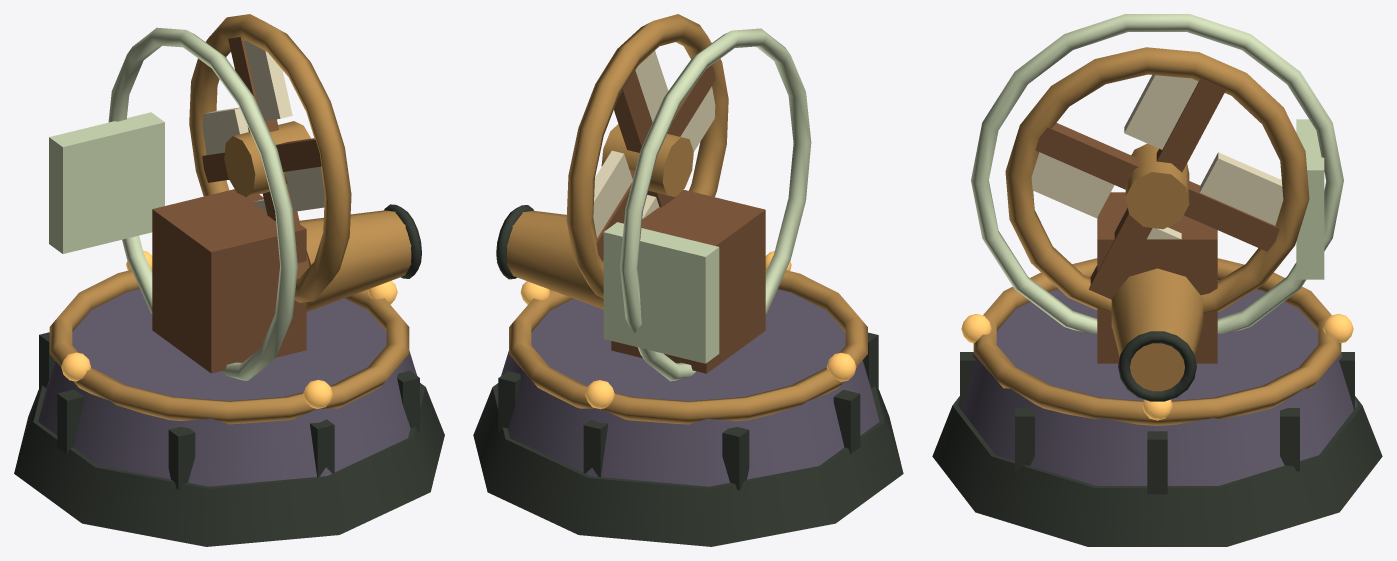
Rendered from tower_wind_windSwitch_ultimate.glb.
The picture shows the model from 3 angles, left to right: view 1: azimuth 30°, elevation 25°; view 2: azimuth 150°, elevation 25°; view 3: azimuth 270°, elevation 25°; orthographic projection. The views are drawn at different scales.
Visible parts, largest first — view 1: stone_1, foot_0, mill_15, deflector_28, guide_ring_16, rim_2, redirect_29, air_nozzle_26, hub_17, sail_21, sail_19, sail_23 (+12 smaller); view 2: stone_1, foot_0, redirect_29, deflector_28, guide_ring_16, rim_2, mill_15, air_nozzle_26, hub_17, sail_19, spar_20, mortar_8 (+11 smaller); view 3: stone_1, foot_0, guide_ring_16, redirect_29, rim_2, air_nozzle_26, mill_15, hub_17, sail_19, deflector_28, spar_22, sail_21 (+12 smaller).
Boxes of the visible parts, bbox=[...] form: stone_1: bbox=[38, 289, 420, 486]; foot_0: bbox=[14, 383, 444, 546]; mill_15: bbox=[152, 189, 306, 373]; deflector_28: bbox=[49, 112, 164, 253]; guide_ring_16: bbox=[189, 14, 351, 302]; rim_2: bbox=[49, 270, 409, 424]; redirect_29: bbox=[108, 27, 297, 380]; air_nozzle_26: bbox=[299, 210, 411, 311]; hub_17: bbox=[224, 121, 310, 197]; sail_21: bbox=[244, 40, 292, 120]; sail_19: bbox=[202, 107, 248, 154]; sail_23: bbox=[285, 166, 324, 211]; stone_1: bbox=[497, 289, 879, 486]; foot_0: bbox=[473, 383, 903, 546]; redirect_29: bbox=[620, 28, 811, 381]; deflector_28: bbox=[603, 222, 719, 363]; guide_ring_16: bbox=[566, 14, 728, 298]; rim_2: bbox=[509, 270, 867, 424]; mill_15: bbox=[611, 189, 765, 373]; air_nozzle_26: bbox=[507, 210, 603, 309]; hub_17: bbox=[601, 124, 693, 197]; sail_19: bbox=[593, 150, 632, 237]; spar_20: bbox=[614, 69, 652, 152]; mortar_8: bbox=[722, 427, 749, 490]; stone_1: bbox=[957, 280, 1357, 485]; foot_0: bbox=[932, 396, 1382, 546]; guide_ring_16: bbox=[1005, 47, 1309, 313]; redirect_29: bbox=[971, 14, 1343, 333]; rim_2: bbox=[973, 258, 1341, 425]; air_nozzle_26: bbox=[1111, 268, 1203, 391]; mill_15: bbox=[1097, 192, 1217, 363]; hub_17: bbox=[1125, 143, 1189, 229]; sail_19: bbox=[1199, 152, 1283, 225]; deflector_28: bbox=[1296, 119, 1324, 279]; spar_22: bbox=[1035, 123, 1138, 189]; sail_21: bbox=[1124, 75, 1198, 149].
Bounding box in the file's own units: 0.5326 × 0.5895 × 0.56.
